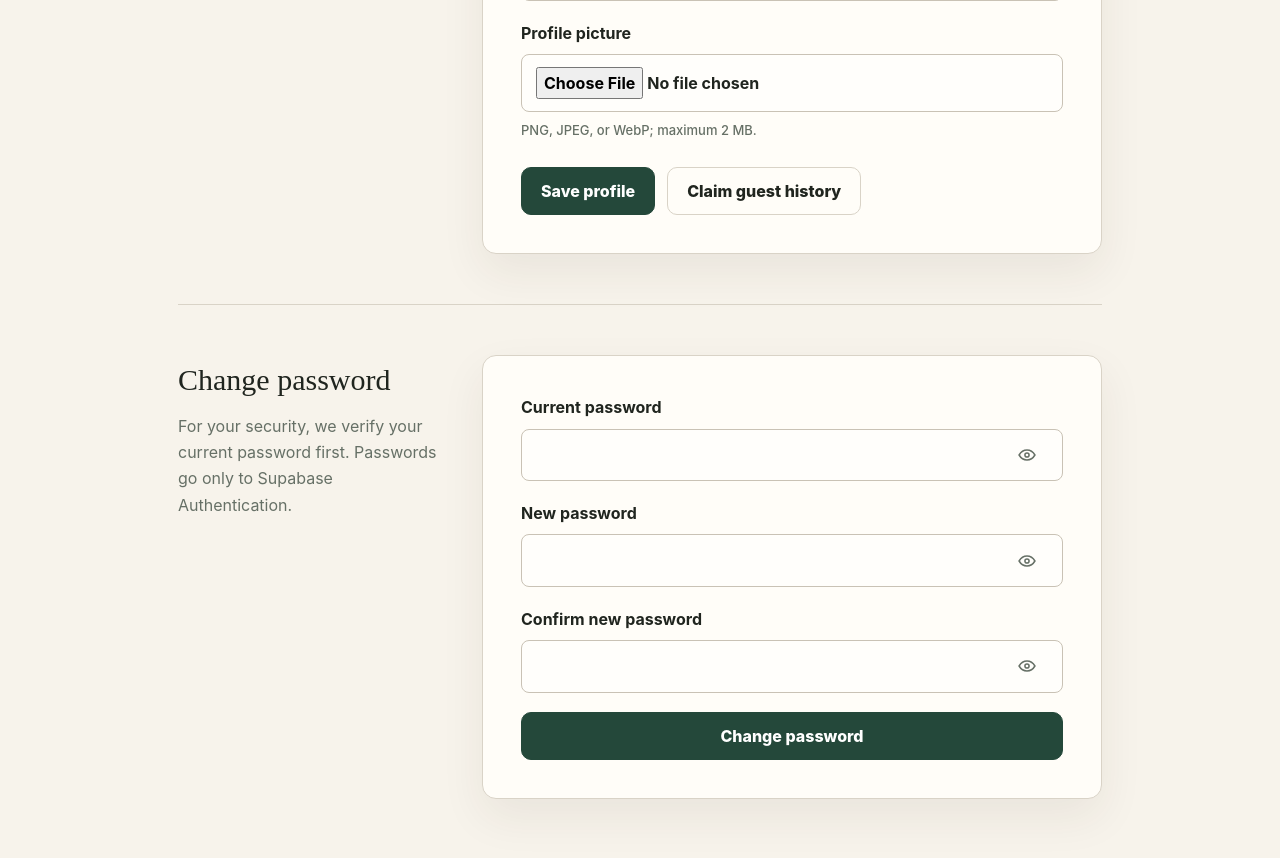
it: profile › reauthenticates, updates, confirms, and clears password fields
This screenshot has width=1280, height=858.
(page scrolled)
Type "old-password" into the password field labelled "Current password" at (792, 455), box [521,428,1063,481]
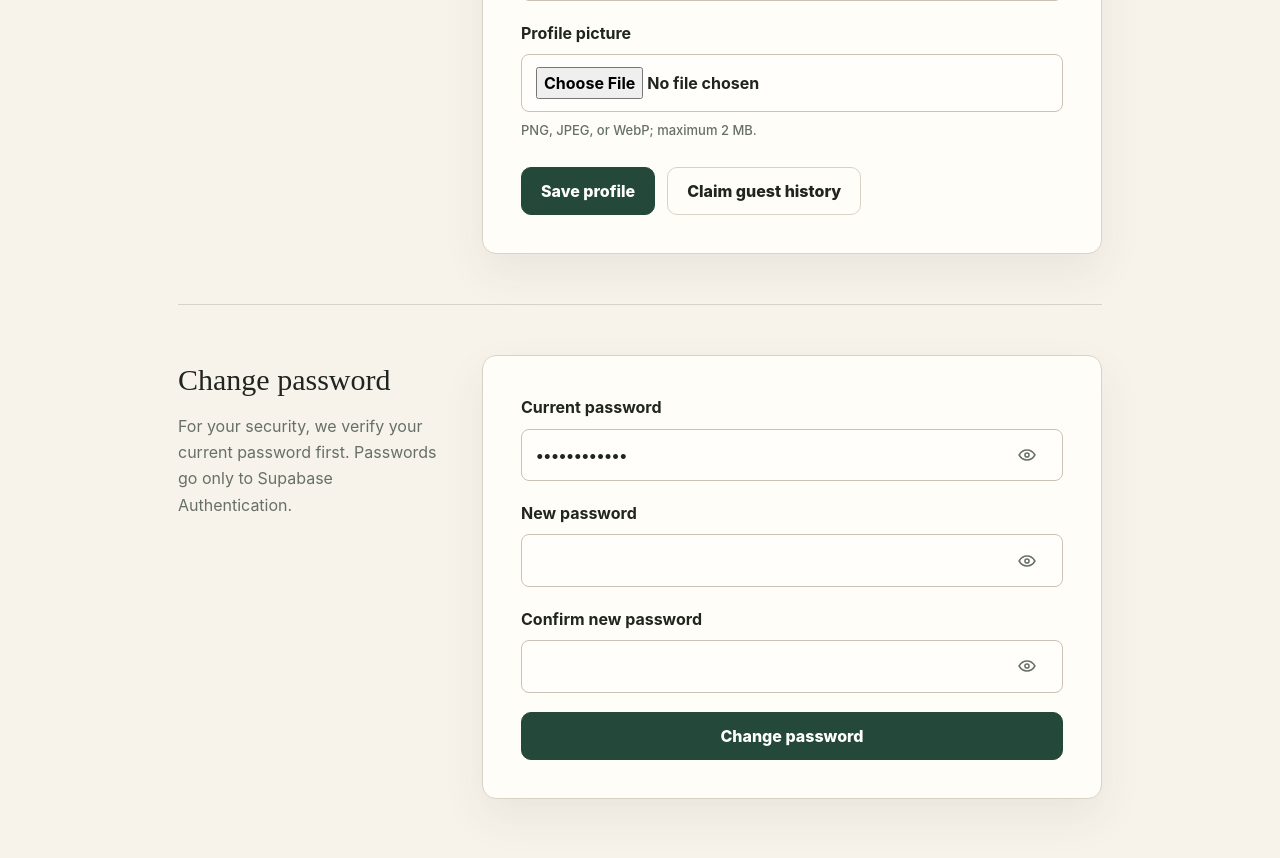
Type "new-password" into the password field labelled "New password" at (792, 560), box [521,534,1063,587]
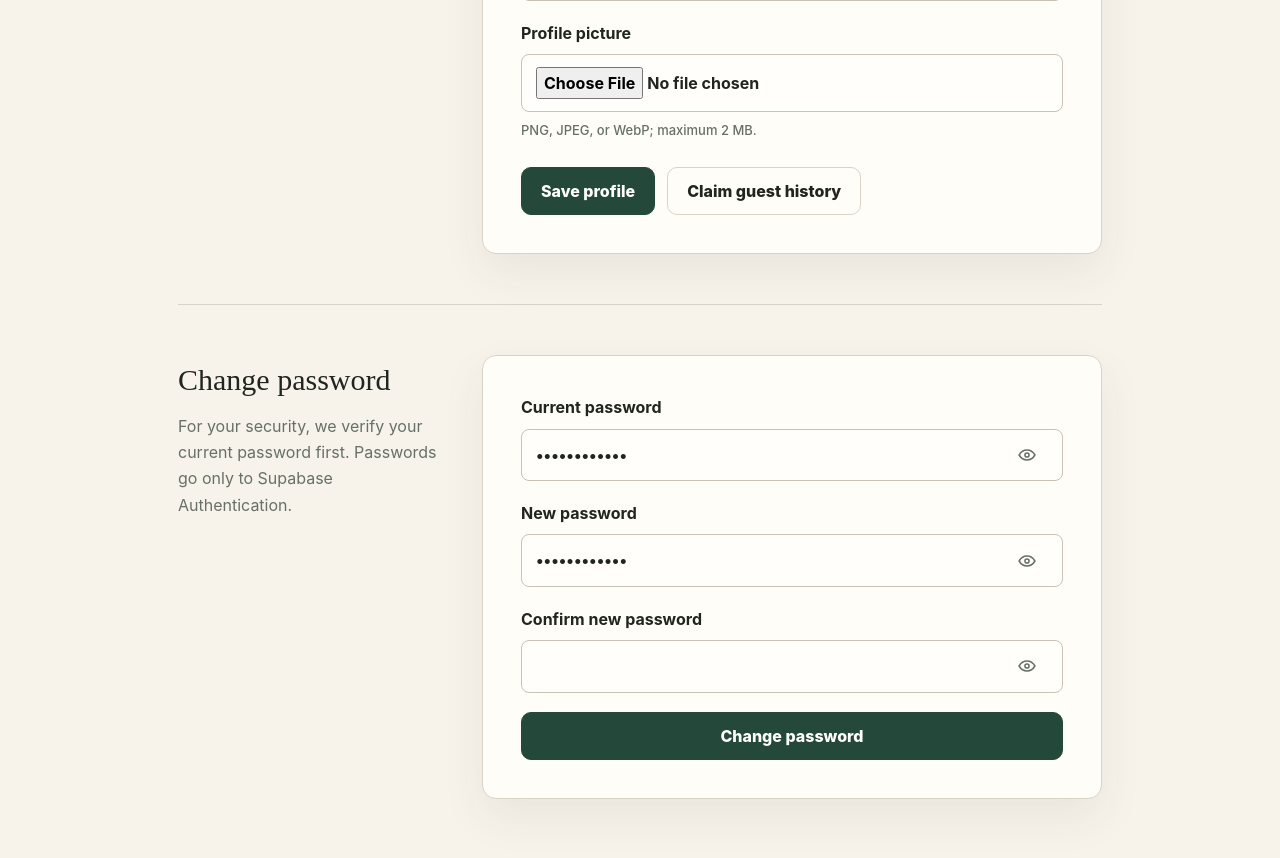
Type "new-password" into the password field labelled "Confirm new password" at (792, 666), box [521,640,1063,692]
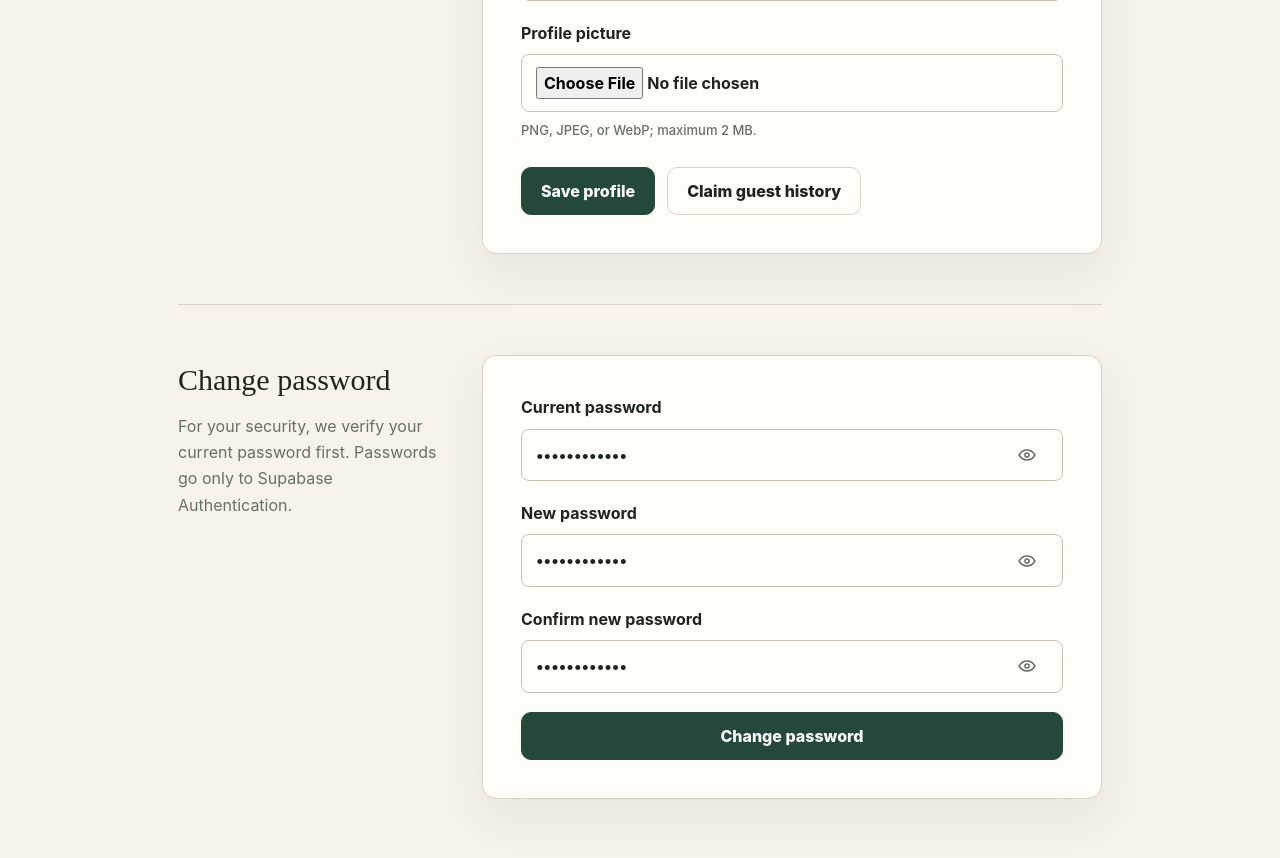
Click the button "Change password" at (792, 736), box [521,712,1063,760]
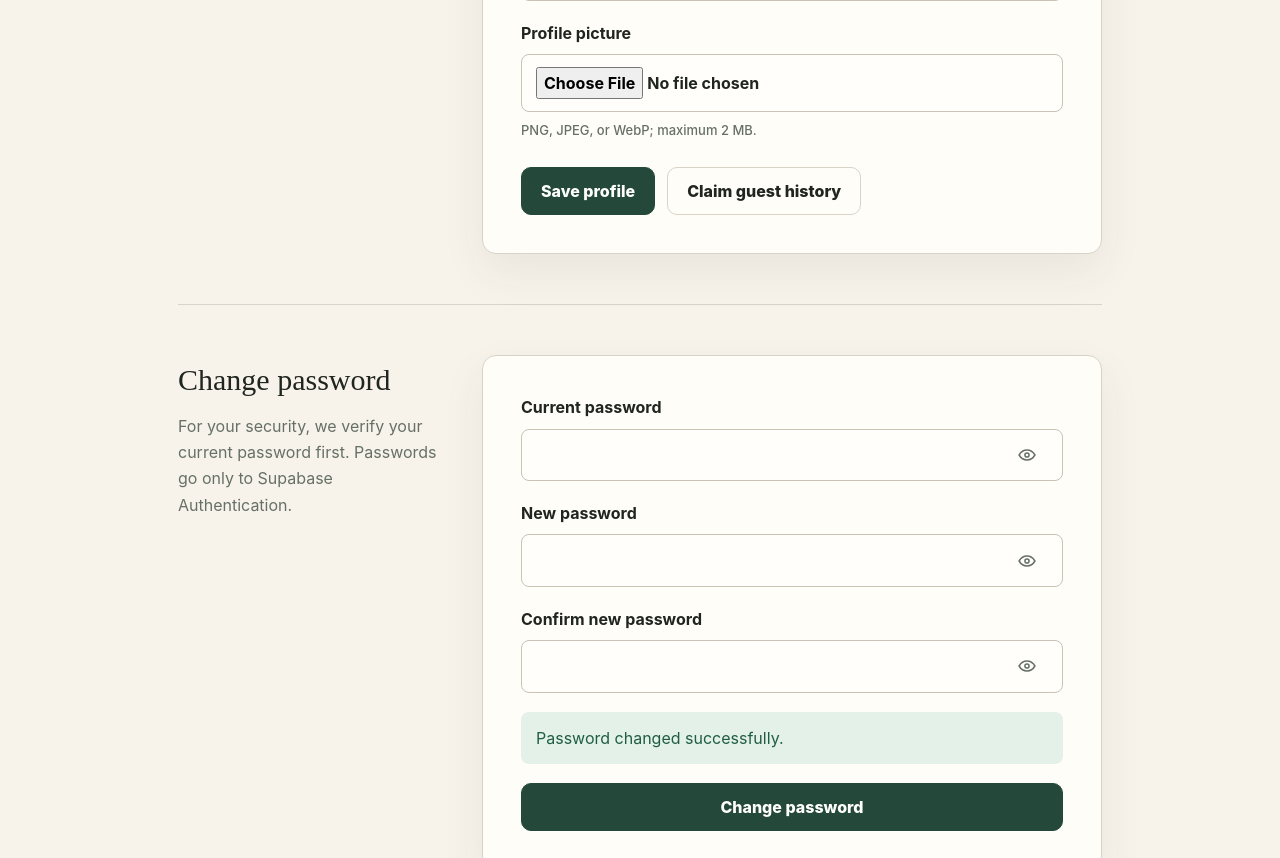
Now the message shows "Password changed successfully", box [536,728,784,748]
Now the password field labelled "Current password" is empty, box [521,428,1063,481]
